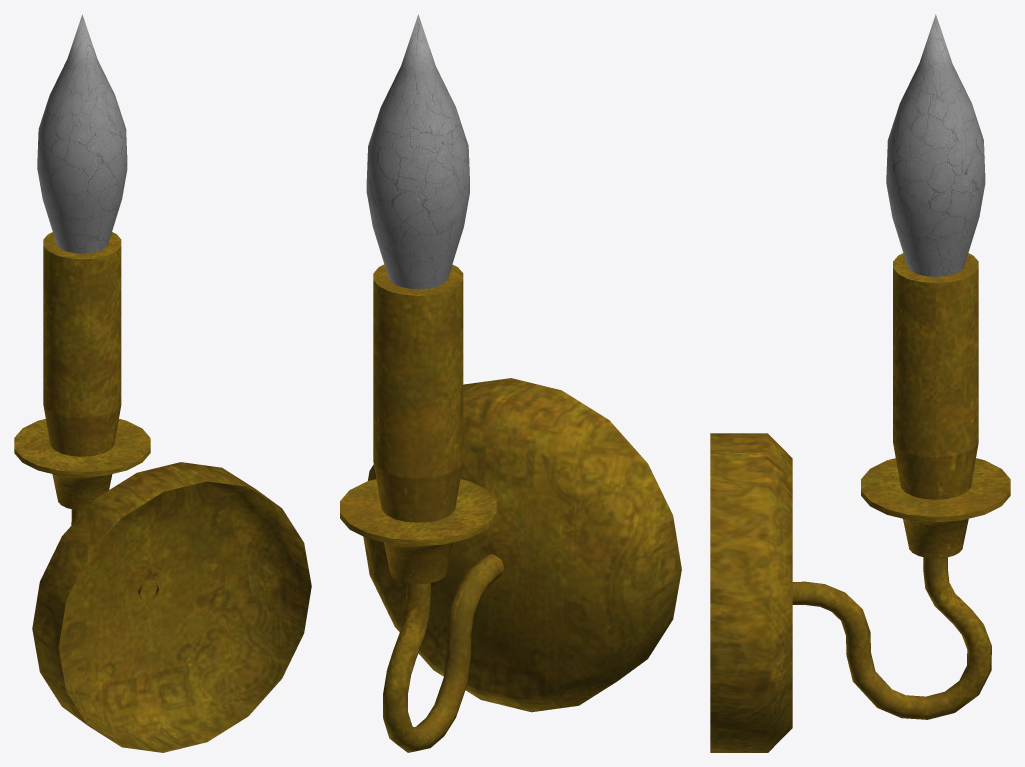
The model's file is candle_lamp_off.DAE.
3 views of the same model, side by side, from view 1: azimuth 30°, elevation 25°; view 2: azimuth 150°, elevation 25°; view 3: azimuth 270°, elevation 25° (orthographic). The views are drawn at different scales.
Parts seen in each view (by area): view 1: Cylinder007, Cylinder008; view 2: Cylinder007, Cylinder008; view 3: Cylinder007, Cylinder008.
Boxes of the visible parts, left/top/right/bottom form: Cylinder007: left=14, top=232, right=311, bottom=752; Cylinder008: left=37, top=14, right=127, bottom=253; Cylinder007: left=340, top=264, right=681, bottom=752; Cylinder008: left=366, top=14, right=469, bottom=289; Cylinder007: left=710, top=253, right=1010, bottom=752; Cylinder008: left=886, top=14, right=985, bottom=276.
Size of the model in its own units: 0.2599 by 0.6459 by 0.2434.
